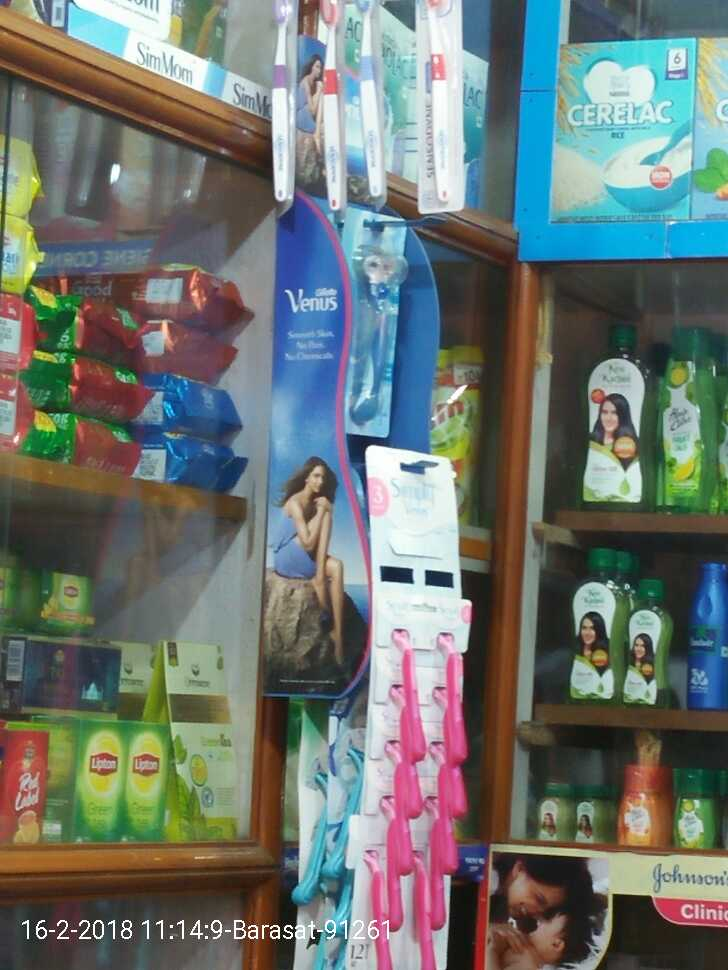venus: (316, 200, 399, 441)
